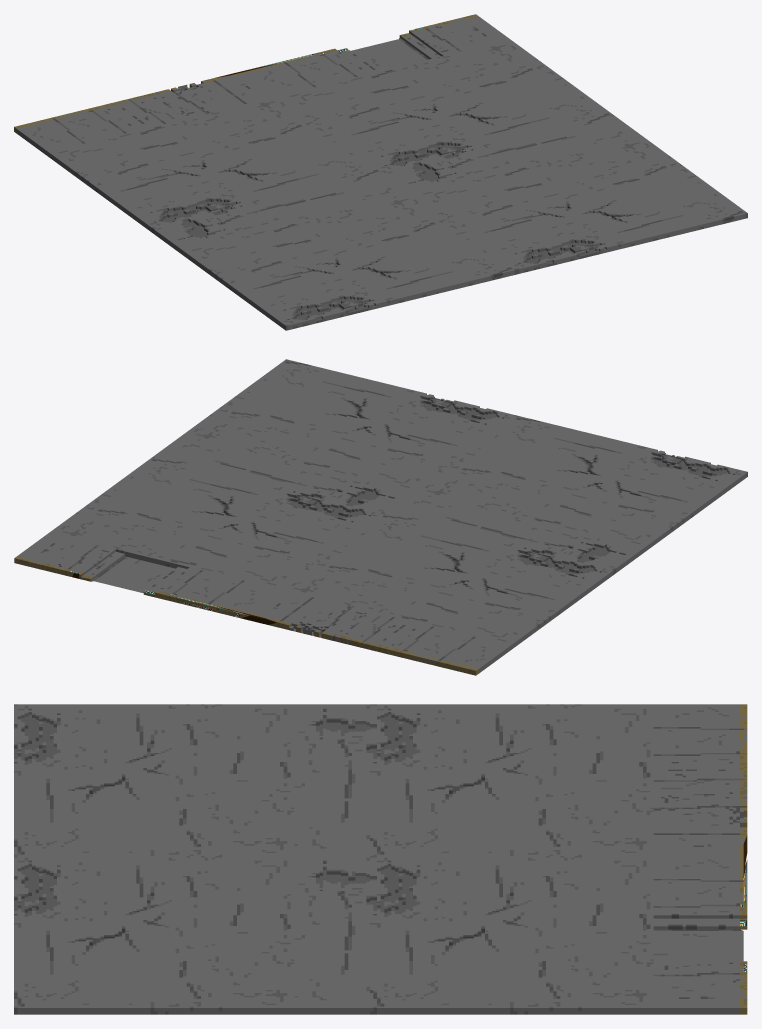
Rendered from concrete.obj.
3 renders of one model, top to bottom at view 1: azimuth 30°, elevation 25°; view 2: azimuth 150°, elevation 25°; view 3: azimuth 270°, elevation 25°, orthographic. The views are drawn at different scales.
Parts seen in each view (by area): view 1: GroundTile; view 2: GroundTile; view 3: GroundTile.
Part boxes in pixels (<box>): GroundTile: <box>14,14,747,330</box>; GroundTile: <box>14,359,747,675</box>; GroundTile: <box>14,704,747,1014</box>.
Size of the model in its own units: 20 by 0.3 by 20.42.
1 material, 1 textured.
